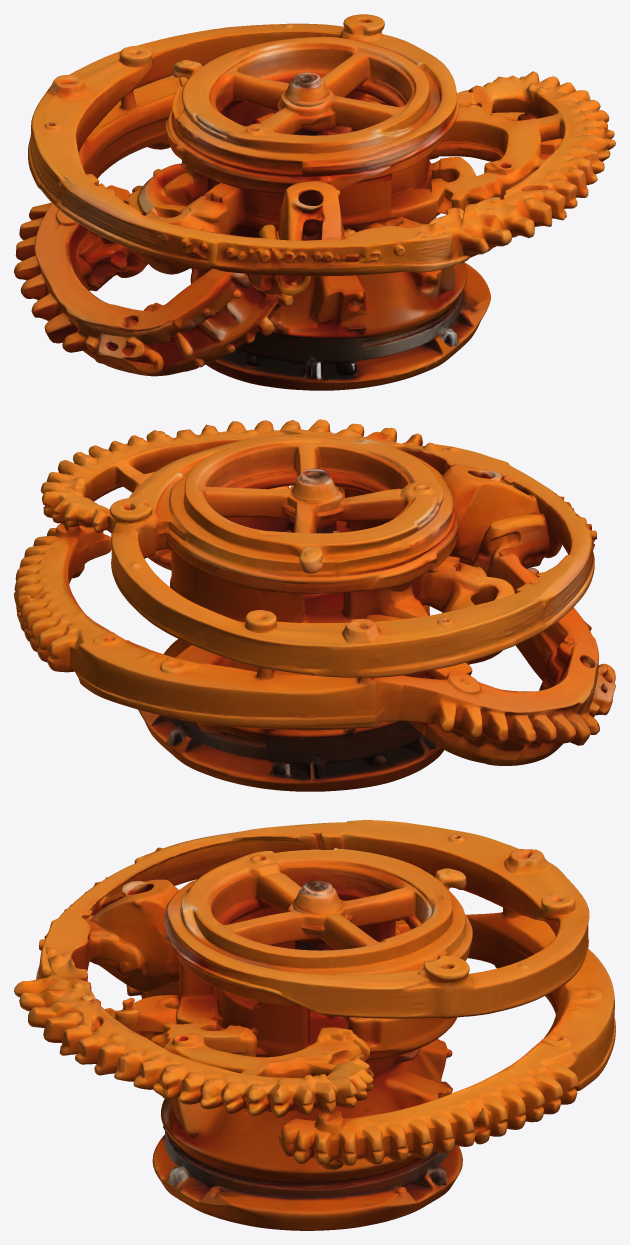
3 views of the same model, one above another, from view 1: azimuth 30°, elevation 25°; view 2: azimuth 150°, elevation 25°; view 3: azimuth 270°, elevation 25° (orthographic). The views are drawn at different scales.
Parts seen in each view (by area): view 1: tripo_node_a5da4cd8-07cf-465d-bfce-aa48fc67f737; view 2: tripo_node_a5da4cd8-07cf-465d-bfce-aa48fc67f737; view 3: tripo_node_a5da4cd8-07cf-465d-bfce-aa48fc67f737.
Part boxes in pixels (x1=…): tripo_node_a5da4cd8-07cf-465d-bfce-aa48fc67f737: x1=14, y1=14, x2=615, y2=390; tripo_node_a5da4cd8-07cf-465d-bfce-aa48fc67f737: x1=14, y1=419, x2=615, y2=791; tripo_node_a5da4cd8-07cf-465d-bfce-aa48fc67f737: x1=14, y1=820, x2=615, y2=1230.
Size of the model in its own units: 0.9781 by 0.4551 by 0.8905.
1 material, 1 textured.
